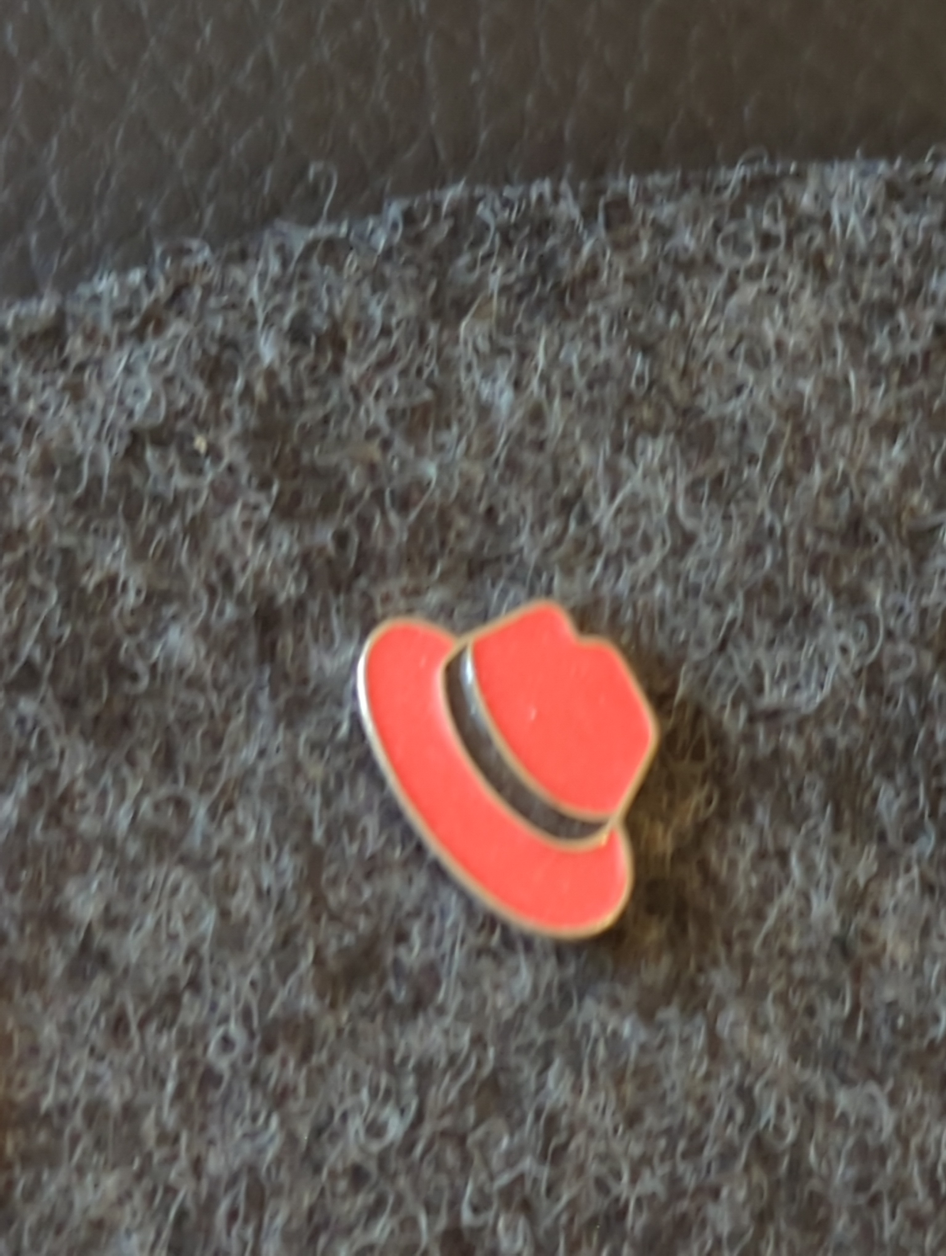Red-Hat: (241, 489, 731, 1073)
